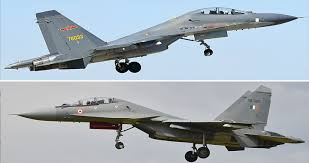maybay_muctieu: (12, 91, 306, 155), (10, 8, 299, 72)
